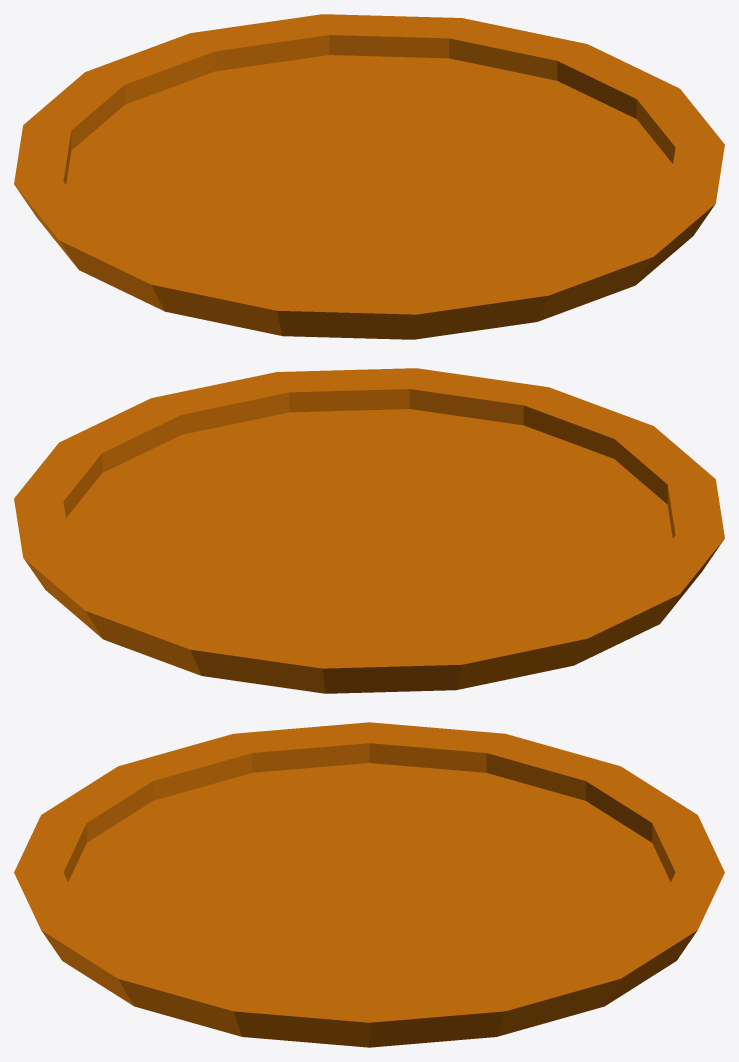
File: LudumDarePlate 1.fbx
3 renders of one model, top to bottom at view 1: azimuth 30°, elevation 25°; view 2: azimuth 150°, elevation 25°; view 3: azimuth 270°, elevation 25°, orthographic.
Parts seen in each view (by area): view 1: Plate; view 2: Plate; view 3: Plate.
Part boxes in pixels (<box>): Plate: <box>14,14,724,339</box>; Plate: <box>14,368,724,693</box>; Plate: <box>14,722,724,1047</box>.
Size of the model in its own units: 34.75 by 1.86 by 34.75.
